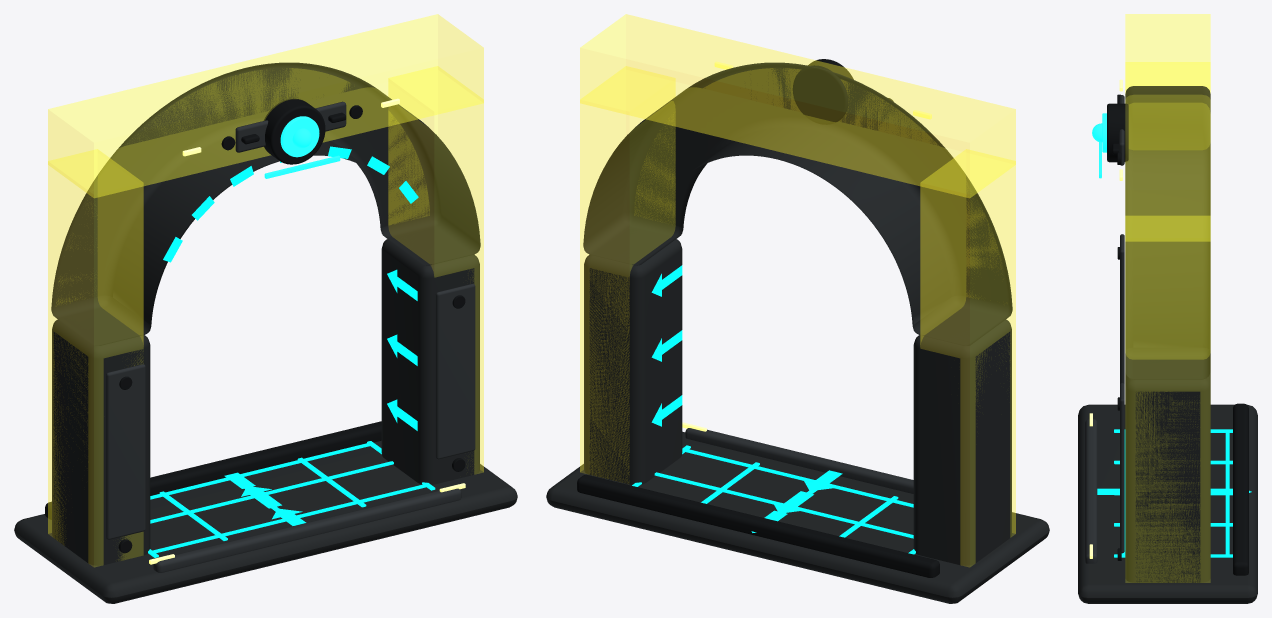
Rendered from SonarCalibrationGate.fbx.
3 renders of one model, left to right at view 1: azimuth 30°, elevation 25°; view 2: azimuth 150°, elevation 25°; view 3: azimuth 270°, elevation 25°, orthographic. The views are drawn at different scales.
Visible parts, largest first — view 1: LocatorMarkerProxy, GateFrame_TopSemiArch_DarkGunmetal, StartThreshold_Platform_Beveled, GateFrame_RightPost_DarkGunmetal, GateFrame_LeftPost_DarkGunmetal, FramePanel_RightFront_CharcoalInset, FramePanel_LeftFront_CharcoalInset, StartThreshold_ApproachSide_LowGuideLip, StartThreshold_MazeDirection_LowGuideLip, ScannerCore_TopHousing_BlackMetal, FramePanel_TopFront_ServicePlate, FX_CalibrationCrossLine_01_CyanDim (+3 smaller); view 2: LocatorMarkerProxy, GateFrame_TopSemiArch_DarkGunmetal, StartThreshold_Platform_Beveled, GateFrame_LeftPost_DarkGunmetal, GateFrame_RightPost_DarkGunmetal, StartThreshold_MazeDirection_LowGuideLip, StartThreshold_ApproachSide_LowGuideLip, ScannerCore_TopHousing_BlackMetal, FX_CalibrationCrossLine_02_CyanDim, FX_CalibrationCrossLine_01_CyanDim; view 3: LocatorMarkerProxy, GateFrame_TopSemiArch_DarkGunmetal, GateFrame_RightPost_DarkGunmetal, StartThreshold_Platform_Beveled, StartThreshold_MazeDirection_LowGuideLip, StartThreshold_ApproachSide_LowGuideLip, ScannerCore_TopHousing_BlackMetal, FramePanel_RightFront_CharcoalInset, FramePanel_LeftFront_CharcoalInset, FX_CalibrationCrossLine_03_CyanDim.
Part boxes in pixels (box(x1,y1,x2,y2)): LocatorMarkerProxy: box(48, 14, 483, 566); GateFrame_TopSemiArch_DarkGunmetal: box(51, 62, 480, 345); StartThreshold_Platform_Beveled: box(14, 440, 517, 603); GateFrame_RightPost_DarkGunmetal: box(381, 228, 479, 484); GateFrame_LeftPost_DarkGunmetal: box(52, 316, 150, 565); FramePanel_RightFront_CharcoalInset: box(435, 283, 475, 459); FramePanel_LeftFront_CharcoalInset: box(106, 364, 145, 539); StartThreshold_ApproachSide_LowGuideLip: box(153, 488, 461, 572); StartThreshold_MazeDirection_LowGuideLip: box(45, 421, 381, 519); ScannerCore_TopHousing_BlackMetal: box(263, 98, 325, 164); FramePanel_TopFront_ServicePlate: box(235, 101, 346, 152); FX_CalibrationCrossLine_01_CyanDim: box(152, 484, 427, 553); LocatorMarkerProxy: box(580, 14, 1015, 566); GateFrame_TopSemiArch_DarkGunmetal: box(583, 62, 1012, 345); StartThreshold_Platform_Beveled: box(546, 431, 1049, 603); GateFrame_LeftPost_DarkGunmetal: box(913, 309, 1011, 565); GateFrame_RightPost_DarkGunmetal: box(584, 228, 682, 484); StartThreshold_MazeDirection_LowGuideLip: box(577, 475, 939, 577); StartThreshold_ApproachSide_LowGuideLip: box(685, 428, 913, 493); ScannerCore_TopHousing_BlackMetal: box(792, 59, 853, 124); FX_CalibrationCrossLine_02_CyanDim: box(654, 472, 913, 538); FX_CalibrationCrossLine_01_CyanDim: box(684, 448, 913, 507); LocatorMarkerProxy: box(1125, 14, 1210, 582); GateFrame_TopSemiArch_DarkGunmetal: box(1125, 86, 1210, 379); GateFrame_RightPost_DarkGunmetal: box(1125, 359, 1210, 582); StartThreshold_Platform_Beveled: box(1078, 404, 1257, 603); StartThreshold_MazeDirection_LowGuideLip: box(1233, 403, 1248, 575); StartThreshold_ApproachSide_LowGuideLip: box(1085, 419, 1097, 563); ScannerCore_TopHousing_BlackMetal: box(1107, 103, 1128, 162); FramePanel_RightFront_CharcoalInset: box(1120, 383, 1124, 553); FramePanel_LeftFront_CharcoalInset: box(1120, 234, 1124, 384); FX_CalibrationCrossLine_03_CyanDim: box(1225, 430, 1229, 554).
Bounding box in the file's own units: 2.34 × 2.4 × 0.95.
